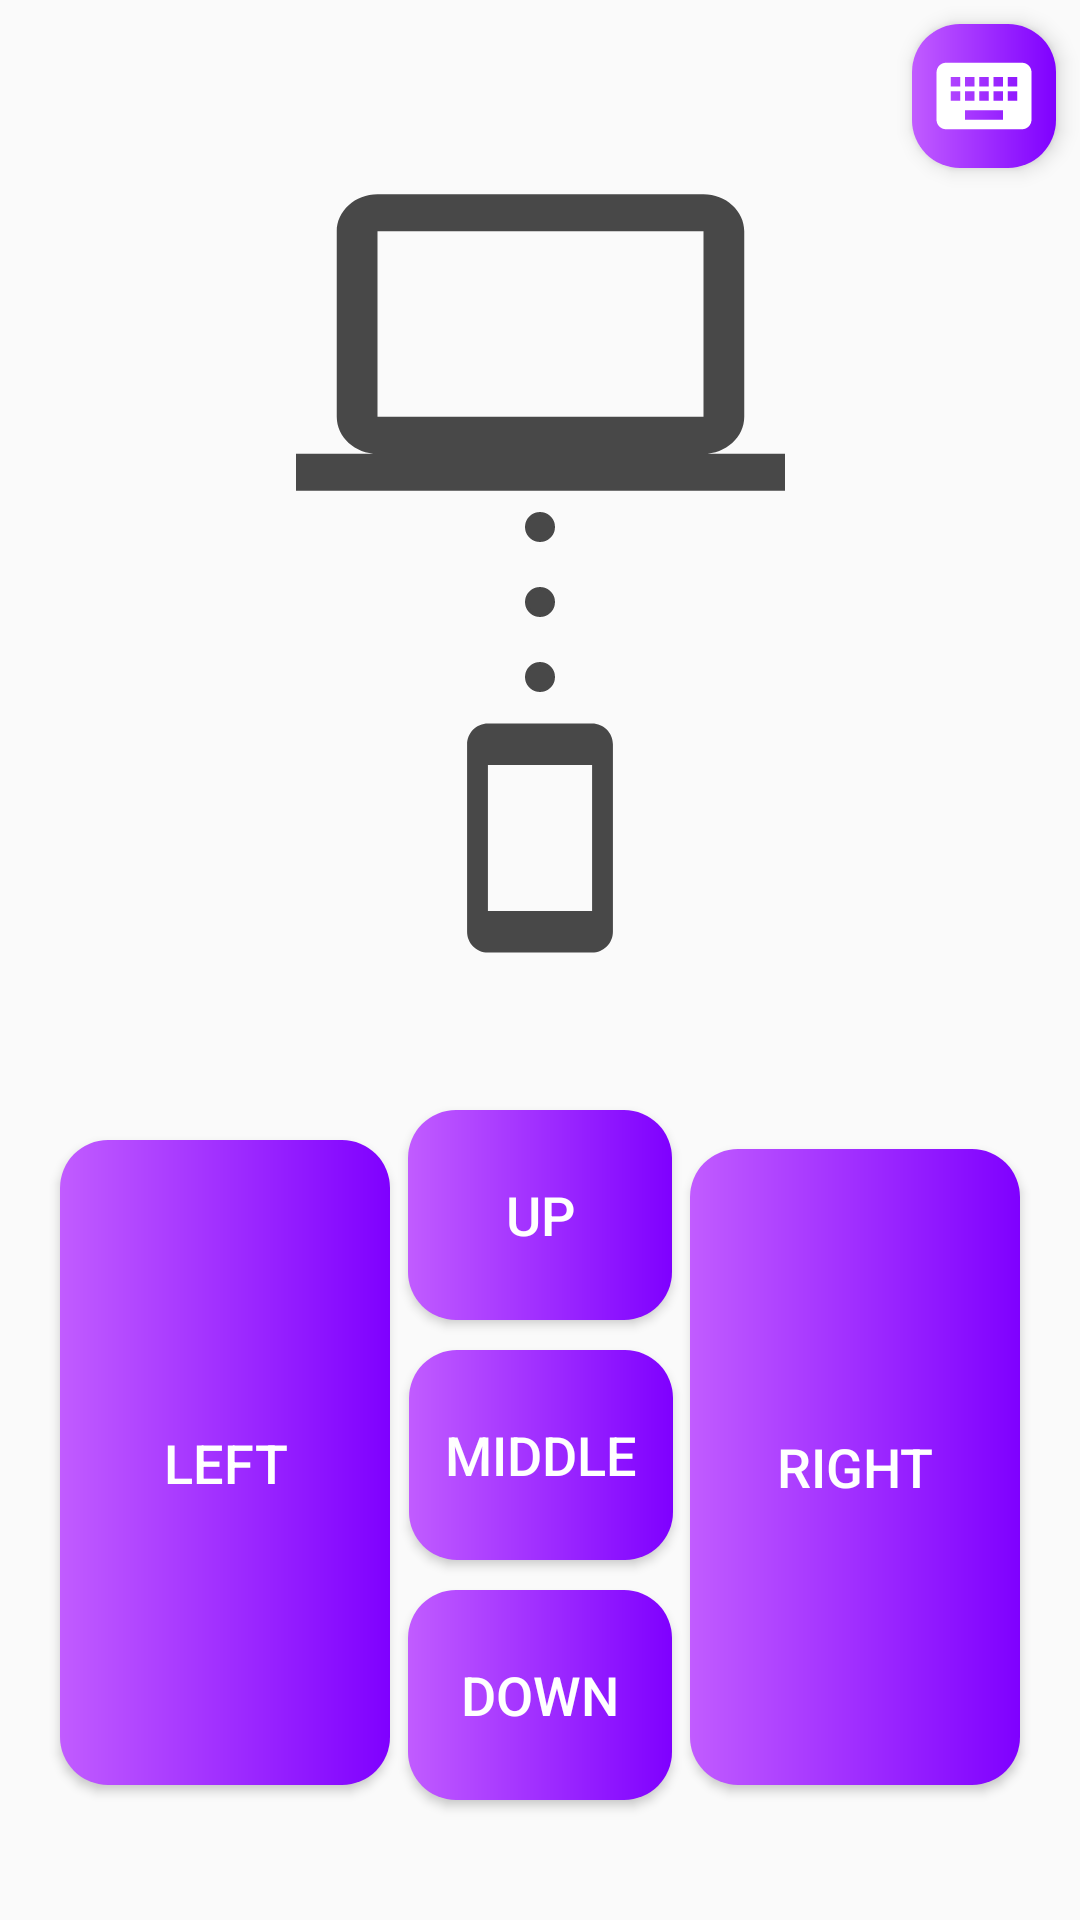

Screen size 1080x1920. Icon name, then its box in pixels as (x1, y1, x2, y2):
keyboard: (912, 24, 1056, 168)
smartphone: (467, 723, 613, 953)
